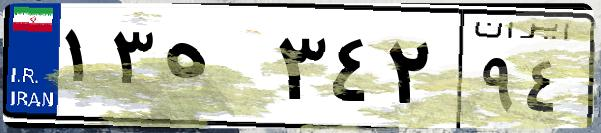1: (57, 26, 110, 100)
2: (385, 28, 445, 110)
3: (270, 28, 330, 110), (110, 28, 158, 98)
4: (330, 28, 385, 110), (525, 38, 570, 115)
9: (475, 38, 525, 113)
ه: (158, 20, 270, 120)
